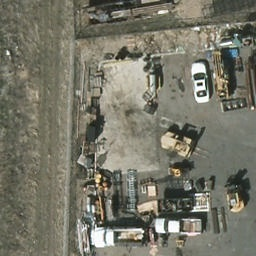car: (189, 61, 212, 103)
other: (224, 182, 247, 211)
pickup: (156, 218, 202, 236)
truck: (94, 229, 144, 247)
